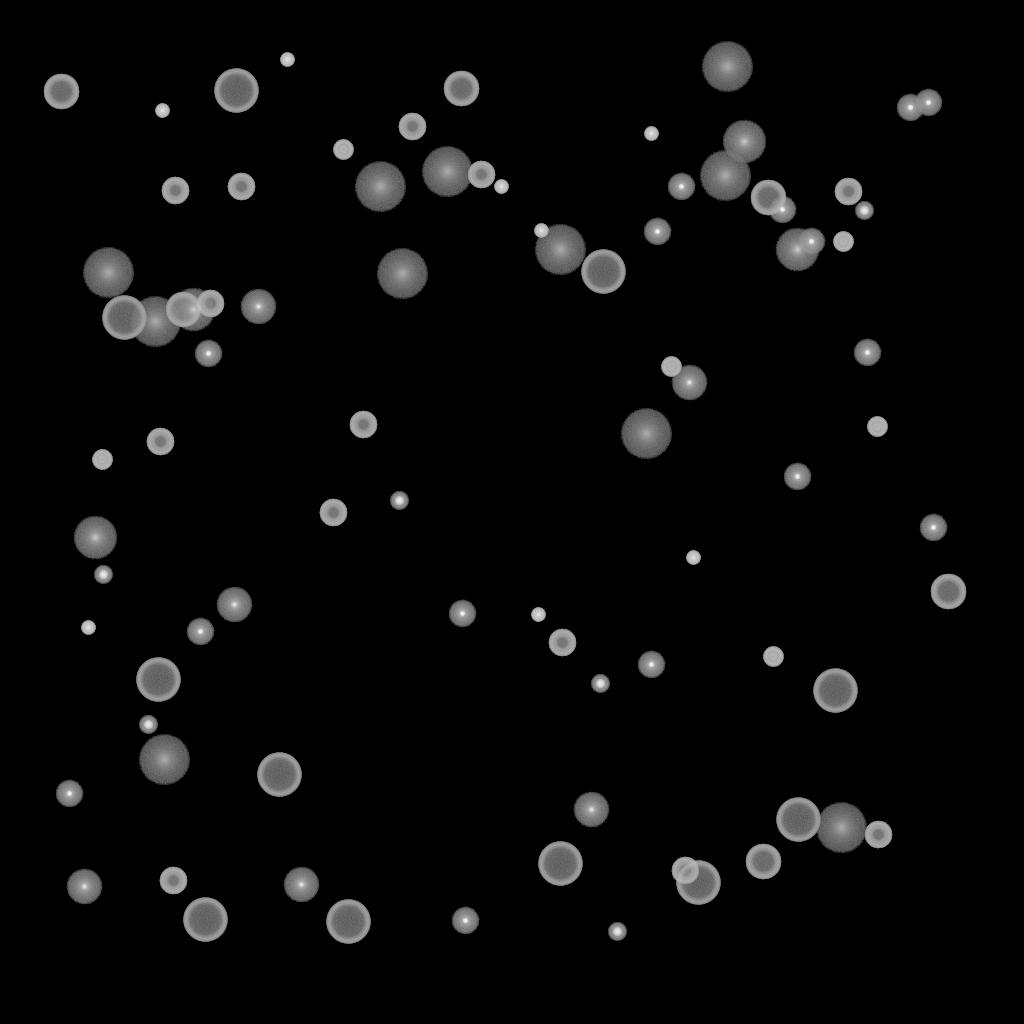depth:-10: (448, 600, 476, 628), (914, 89, 942, 117), (637, 651, 665, 679), (853, 339, 881, 367), (667, 173, 695, 201), (919, 514, 947, 542), (768, 196, 796, 224), (797, 228, 825, 256), (643, 218, 671, 246), (194, 340, 222, 368), (783, 463, 811, 491), (55, 780, 83, 808), (896, 94, 924, 122), (186, 618, 214, 646), (451, 907, 479, 935)
depth:-20: (139, 716, 157, 734), (855, 202, 873, 220), (94, 566, 112, 584), (608, 923, 626, 941), (390, 492, 408, 510), (591, 675, 609, 693)
depth:-30: (534, 224, 548, 238), (494, 180, 508, 194), (686, 551, 700, 565), (644, 127, 658, 141), (81, 621, 95, 635), (155, 104, 169, 118), (280, 53, 294, 67), (531, 608, 545, 622)
depth:-40: (833, 232, 853, 252), (867, 417, 887, 437), (661, 357, 681, 377), (333, 140, 353, 160), (92, 450, 112, 470), (763, 647, 783, 667)
depth:-50: (671, 857, 699, 885), (227, 173, 255, 201), (548, 629, 576, 657), (834, 178, 862, 206), (864, 821, 892, 849), (196, 290, 224, 318), (349, 411, 377, 439), (398, 113, 426, 141), (146, 428, 174, 456), (161, 177, 189, 205), (467, 161, 495, 189), (159, 867, 187, 895), (319, 499, 347, 527)
depth:-60: (165, 292, 201, 328), (750, 180, 786, 216), (443, 71, 479, 107), (745, 844, 781, 880), (43, 74, 79, 110), (930, 574, 966, 610)
depth:-70: (538, 842, 582, 886), (214, 69, 258, 113), (183, 898, 227, 942), (257, 753, 301, 797), (813, 669, 857, 713), (676, 861, 720, 905), (326, 900, 370, 944), (136, 658, 180, 702), (776, 798, 820, 842), (581, 250, 625, 294), (102, 296, 146, 340)
depth:0: (283, 867, 319, 903), (66, 869, 102, 905), (573, 792, 609, 828), (216, 587, 252, 623), (240, 289, 276, 325), (671, 365, 707, 401)
depth:10: (775, 228, 819, 272), (722, 120, 766, 164), (171, 288, 215, 332), (73, 516, 117, 560)
depth:20: (421, 147, 473, 197), (701, 42, 753, 92), (354, 162, 406, 212), (138, 735, 190, 785), (376, 249, 428, 299), (620, 409, 672, 459), (129, 297, 181, 347), (699, 151, 751, 201), (534, 225, 586, 275), (815, 803, 867, 853), (82, 248, 134, 298)
